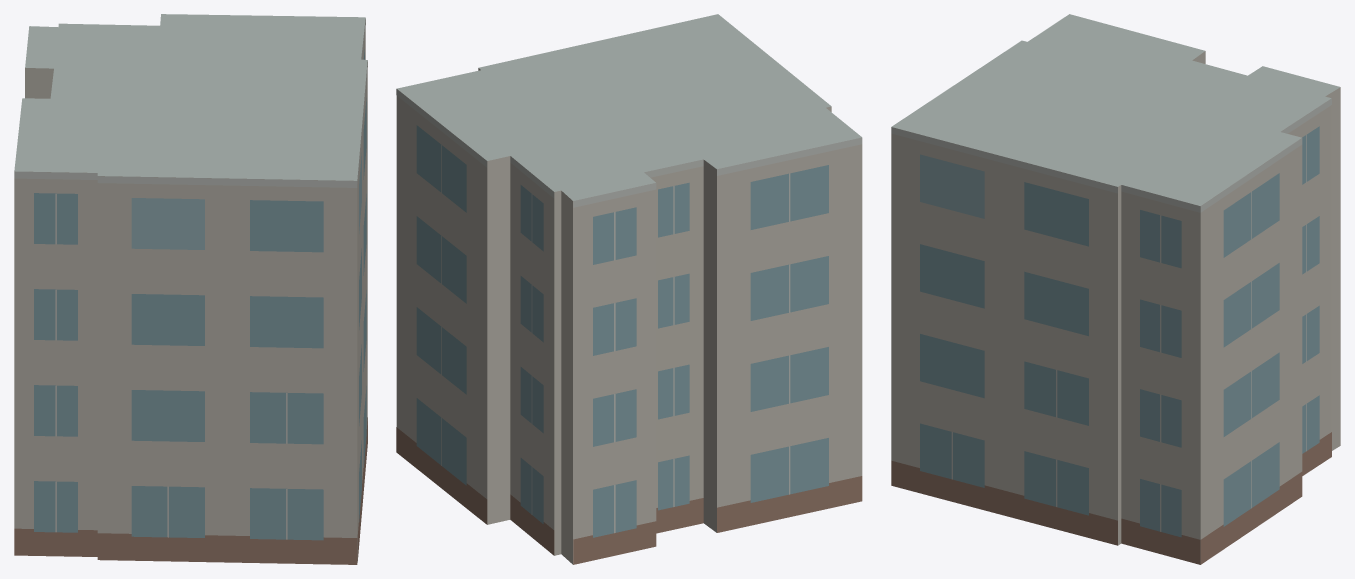
Rendered from survey-upis-32671072.glb.
The picture shows the model from 3 angles, left to right: view 1: azimuth 30°, elevation 25°; view 2: azimuth 150°, elevation 25°; view 3: azimuth 270°, elevation 25°; orthographic projection. The views are drawn at different scales.
Parts seen in each view (by area): view 1: survey-upis-32671072.tmp; view 2: survey-upis-32671072.tmp; view 3: survey-upis-32671072.tmp.
Boxes of the visible parts, bbox=[...] form: survey-upis-32671072.tmp: bbox=[14, 14, 367, 564]; survey-upis-32671072.tmp: bbox=[396, 14, 862, 564]; survey-upis-32671072.tmp: bbox=[891, 14, 1340, 564].
Size of the model in its own units: 15.06 by 13.1 by 14.89.
